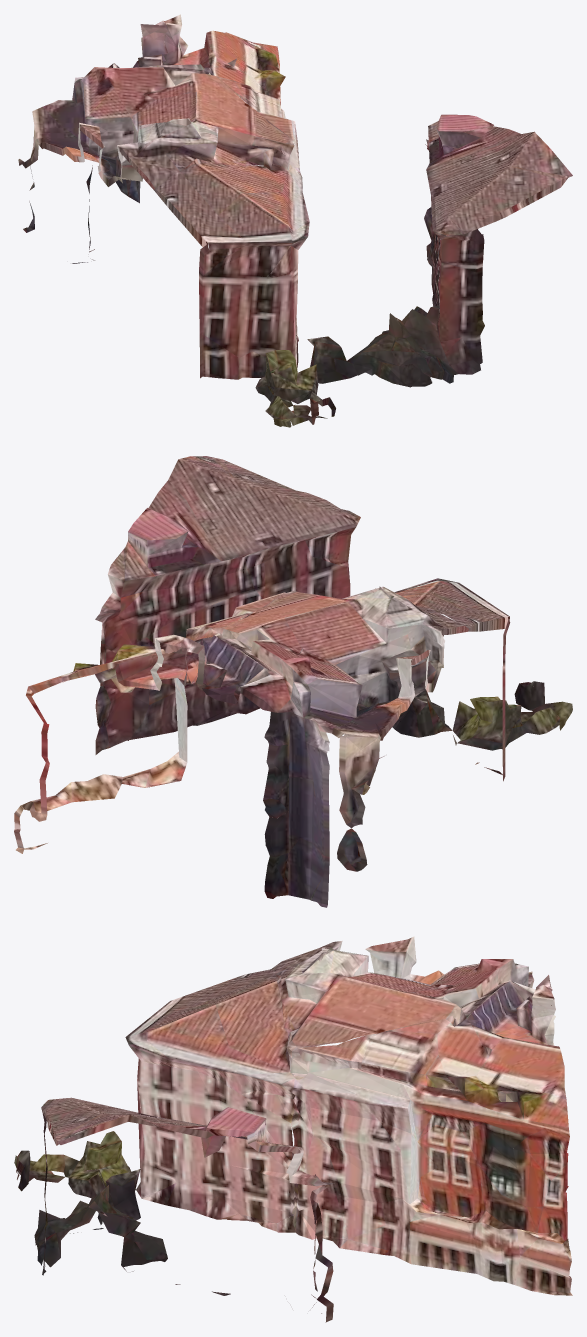
The picture shows the model from 3 angles, top to bottom: view 1: azimuth 30°, elevation 25°; view 2: azimuth 150°, elevation 25°; view 3: azimuth 270°, elevation 25°; orthographic projection. The views are drawn at different scales.
Visible parts, largest first — view 1: Mesh_0; view 2: Mesh_0; view 3: Mesh_0.
Part boxes in pixels (box(x1,y1,x2,y2)): Mesh_0: box(18, 14, 572, 427); Mesh_0: box(14, 456, 572, 907); Mesh_0: box(14, 936, 572, 1322).
Size of the model in its own units: 33.87 by 19.86 by 41.25.
2 materials, 2 textured.
